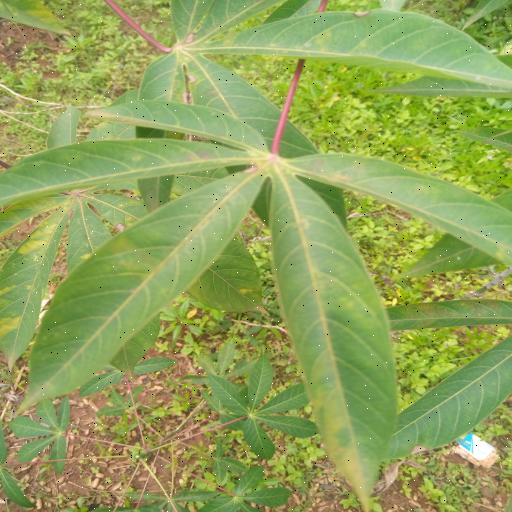Cassava_Mosaic: (0, 100, 512, 512), (131, 2, 512, 244)
